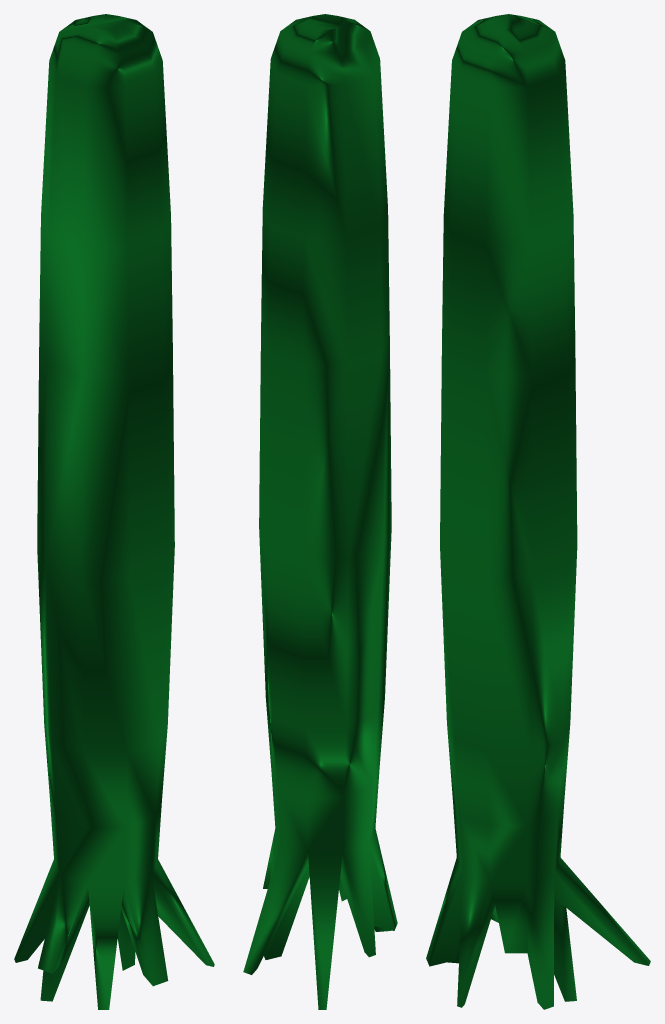
Rendered from SeguaroCactusMedium1_LOD0.obj.
3 views of the same model, side by side, from view 1: azimuth 30°, elevation 25°; view 2: azimuth 150°, elevation 25°; view 3: azimuth 270°, elevation 25° (orthographic). The views are drawn at different scales.
Visible parts, largest first — view 1: SeguaroCactusMedium1_LOD0; view 2: SeguaroCactusMedium1_LOD0; view 3: SeguaroCactusMedium1_LOD0.
Boxes of the visible parts, <box> form: SeguaroCactusMedium1_LOD0: <box>14,14,214,1009</box>; SeguaroCactusMedium1_LOD0: <box>243,14,397,1009</box>; SeguaroCactusMedium1_LOD0: <box>426,14,650,1009</box>.
Bounding box in the file's own units: 38.16 × 231 × 47.52.
